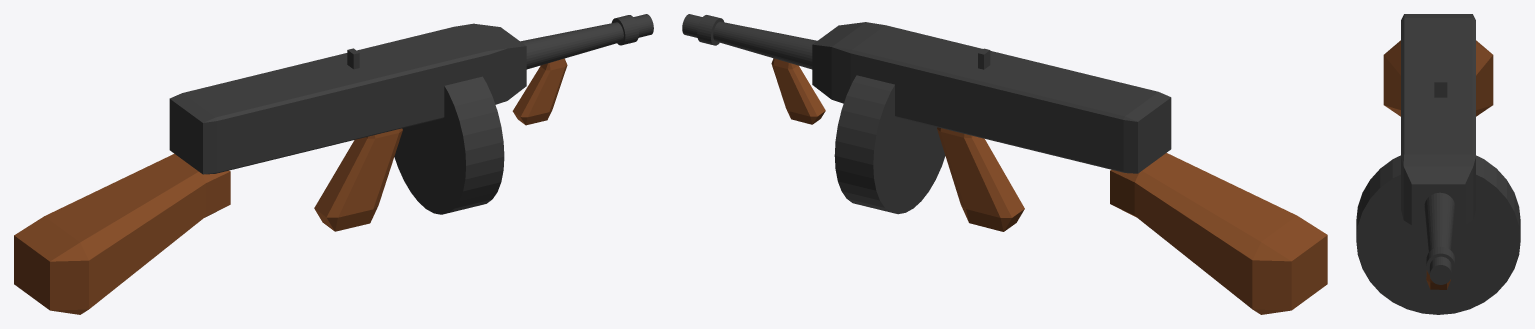
Rendered from (Noir)TommyGunWIP.fbx.
3 views of the same model, side by side, from view 1: azimuth 30°, elevation 25°; view 2: azimuth 150°, elevation 25°; view 3: azimuth 270°, elevation 25° (orthographic). The views are drawn at different scales.
Visible parts, largest first — view 1: Tommygun; view 2: Tommygun; view 3: Tommygun.
Boxes of the visible parts, box(x1,y1,x2,y2) form: Tommygun: box(14, 14, 653, 314); Tommygun: box(682, 14, 1327, 314); Tommygun: box(1356, 14, 1520, 314).
Size of the model in its own units: 173 by 47.59 by 38.69.
